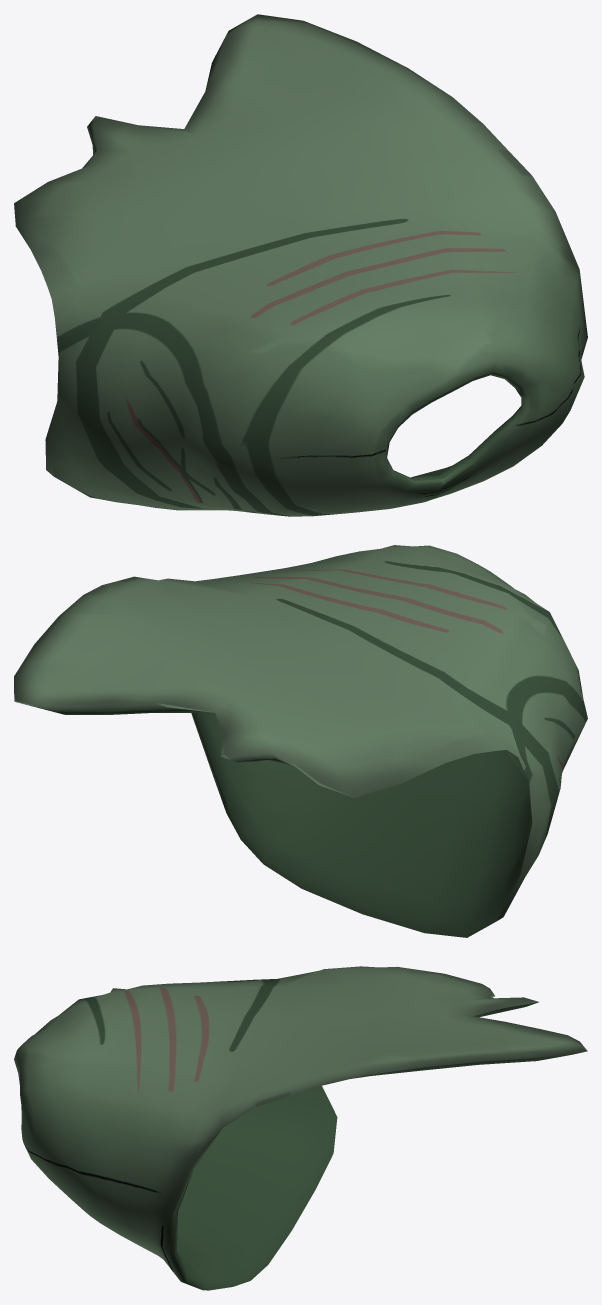
Rendered from Umhang.fbx.
3 renders of one model, top to bottom at view 1: azimuth 30°, elevation 25°; view 2: azimuth 150°, elevation 25°; view 3: azimuth 270°, elevation 25°, orthographic. The views are drawn at different scales.
Visible parts, largest first — view 1: Würfel; view 2: Würfel; view 3: Würfel.
Boxes of the visible parts, x1,y1,x2,y2 form: Würfel: (14, 14, 587, 516); Würfel: (14, 545, 587, 937); Würfel: (14, 966, 587, 1290).
Size of the model in its own units: 122 by 82.25 by 159.
